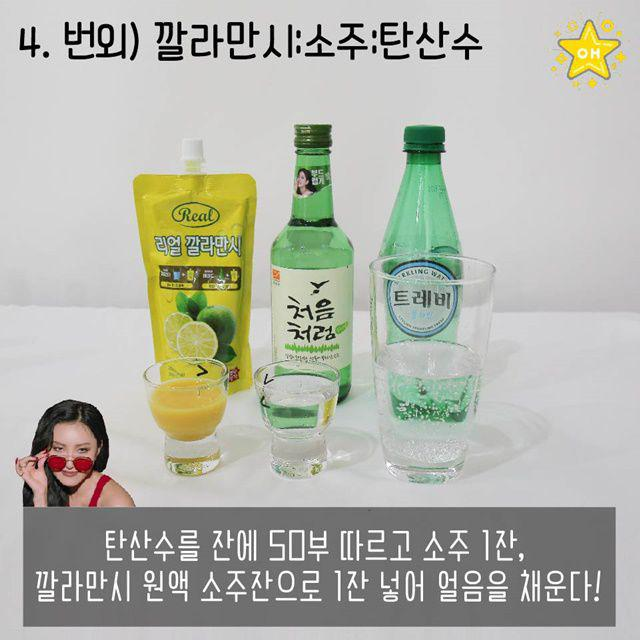soju: (257, 119, 372, 404)
